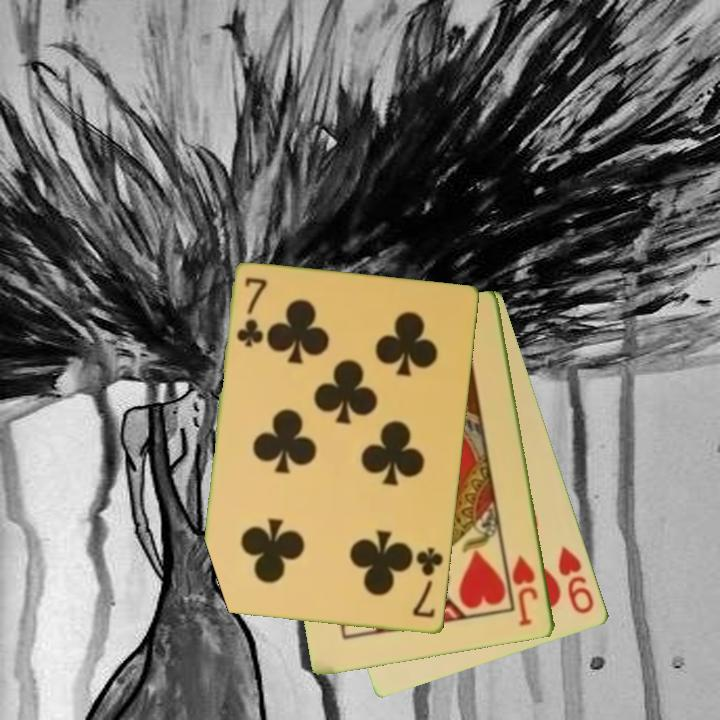7c: (409, 544, 447, 622), (233, 274, 270, 351)
9h: (555, 543, 598, 617)
Jh: (509, 552, 542, 629)
